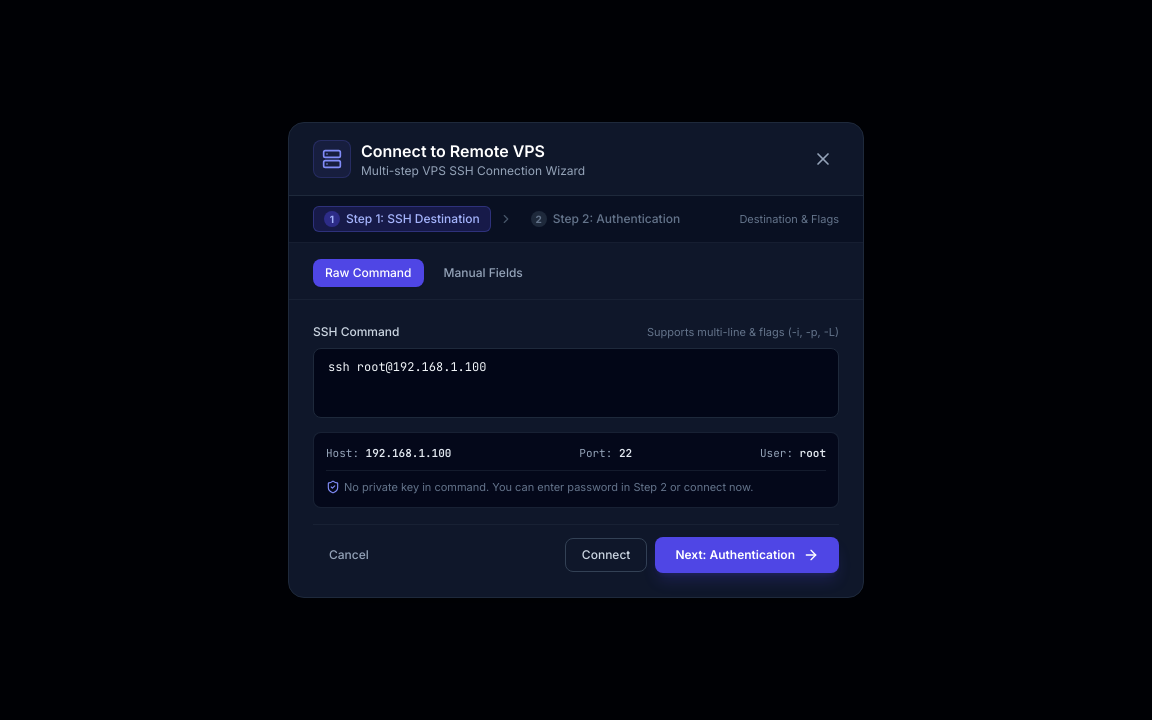
Test: ConnectModal Component (TDD) › should hide password field and show passphrase field when SSH key is parsed from command
Replace the text in the text box showing "ssh root@192.168.1.100" with "ssh -i ~/.ssh/id_ed25519_sample -p 2200 admin@example.com" at x=576, y=383, box 313,348 -> 839,418
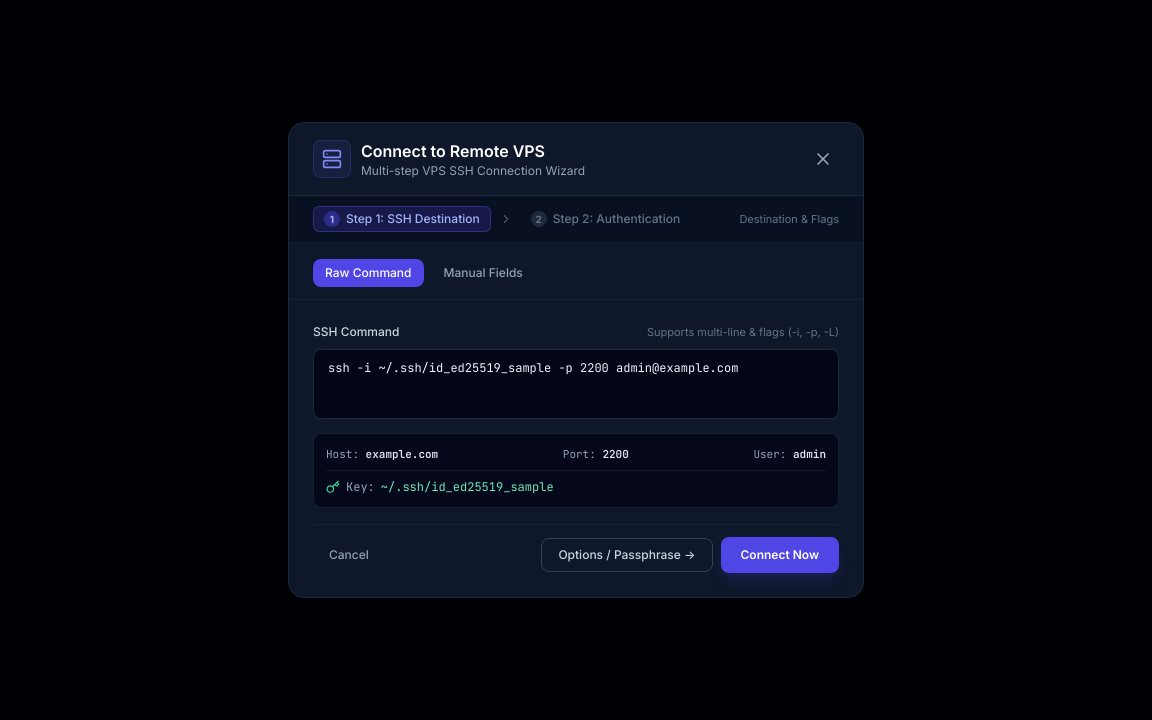
# Advance to Step 2
Click the button "Options / Passphrase →" at x=627, y=555, box 541,538 -> 712,572
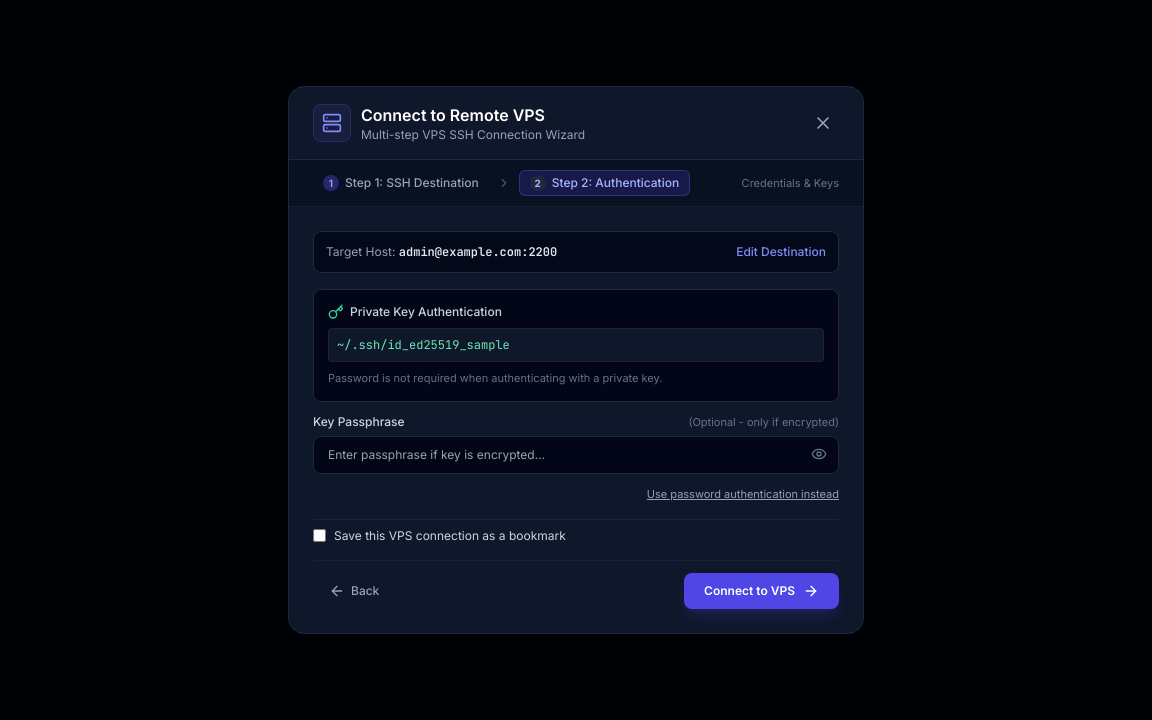
Expected: the text with placeholder "enter password" is not shown
Now the text "~/.ssh/id_ed25519_sample" is shown, box 328,328 -> 824,362
Now the password field with placeholder "Enter passphrase if key is encrypted..." is shown, box 313,436 -> 839,474
